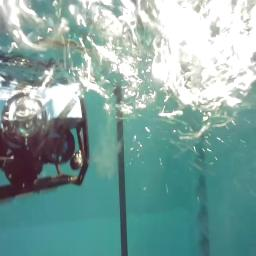front: (0, 82, 88, 200)
